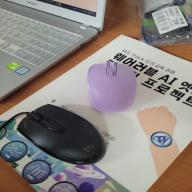mouse: (13, 97, 118, 169), (87, 58, 148, 122)
